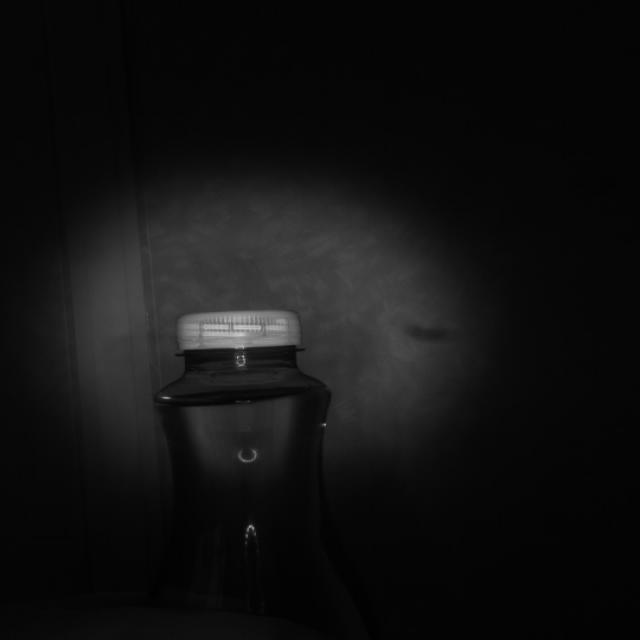Good: (174, 308, 304, 353)
